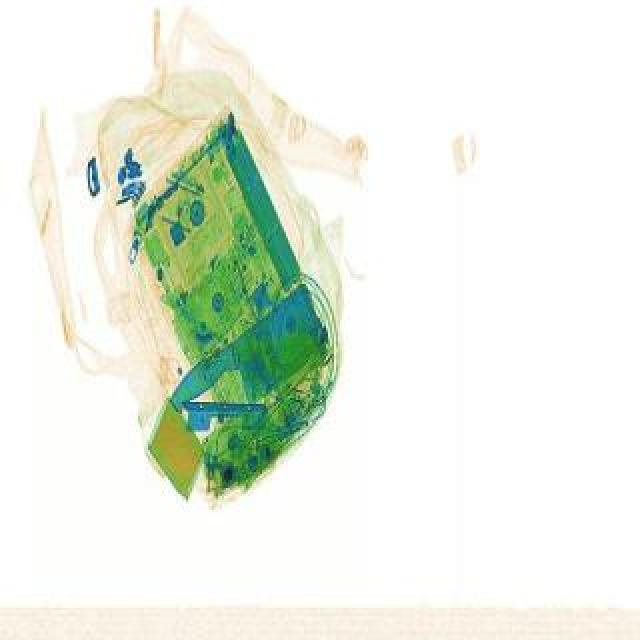knife: (162, 280, 348, 436)
